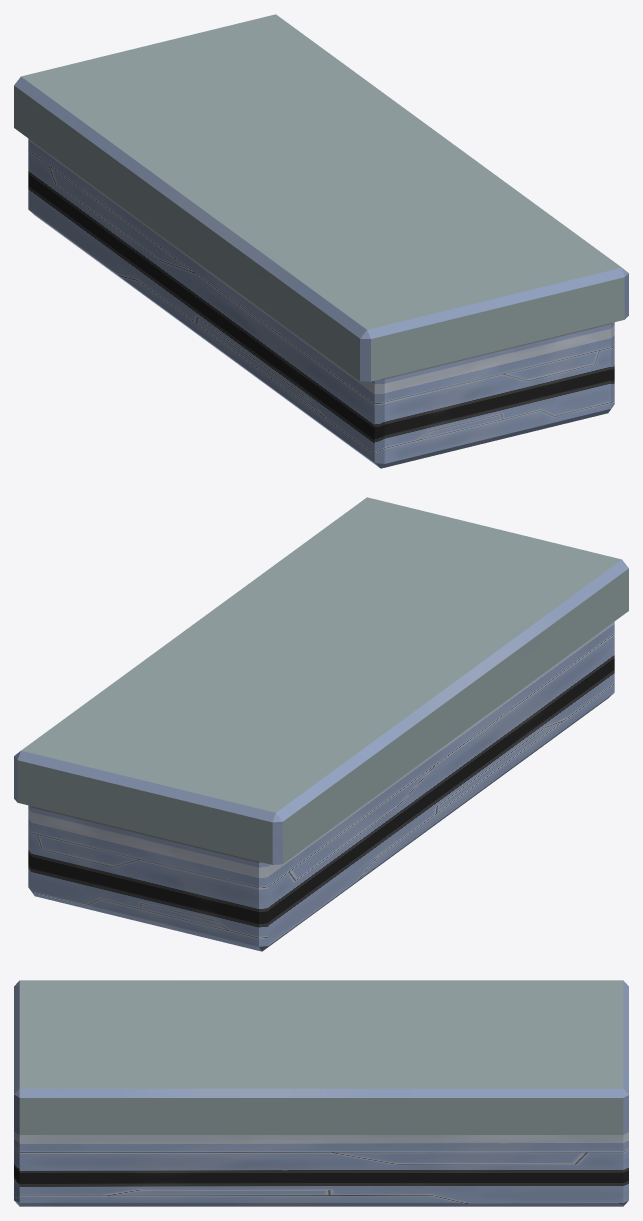
File: Bancada.fbx
3 renders of one model, top to bottom at view 1: azimuth 30°, elevation 25°; view 2: azimuth 150°, elevation 25°; view 3: azimuth 270°, elevation 25°, orthographic. The views are drawn at different scales.
Visible parts, largest first — view 1: Bancada; view 2: Bancada; view 3: Bancada.
Part boxes in pixels (bbox=[...]): Bancada: bbox=[14, 14, 628, 468]; Bancada: bbox=[14, 497, 628, 951]; Bancada: bbox=[14, 980, 628, 1206].
Size of the model in its own units: 815 by 412 by 1853.
